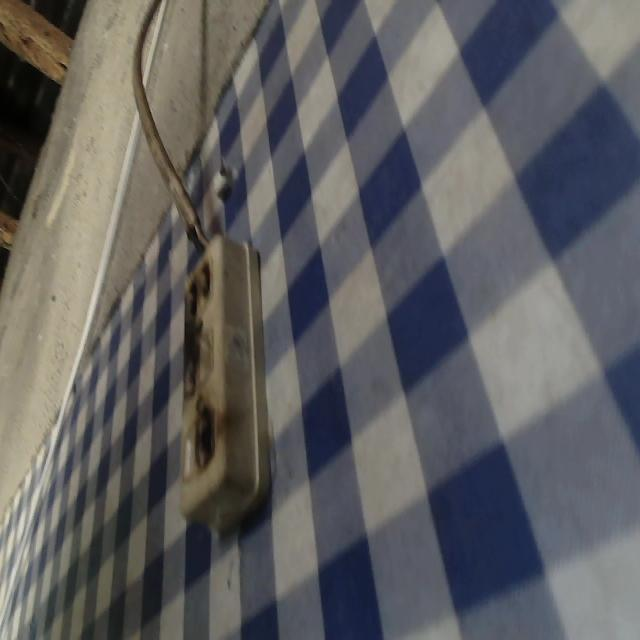-: (181, 260, 213, 313), (194, 405, 218, 468), (180, 330, 202, 398)
